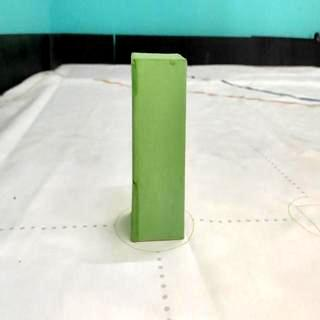greenbox: (129, 51, 187, 242)
